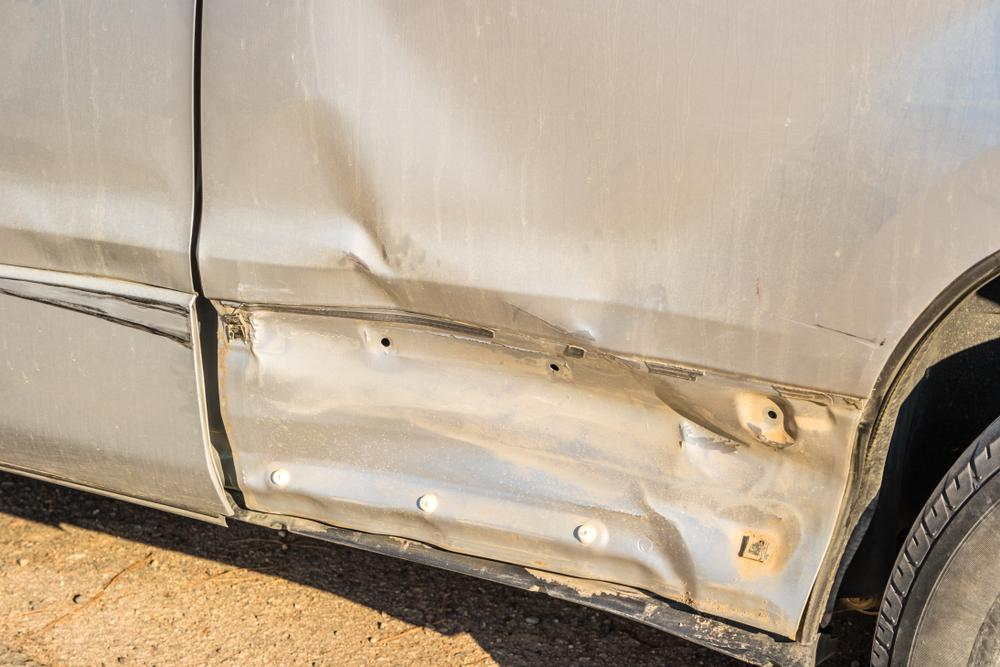dent: (224, 100, 854, 578)
